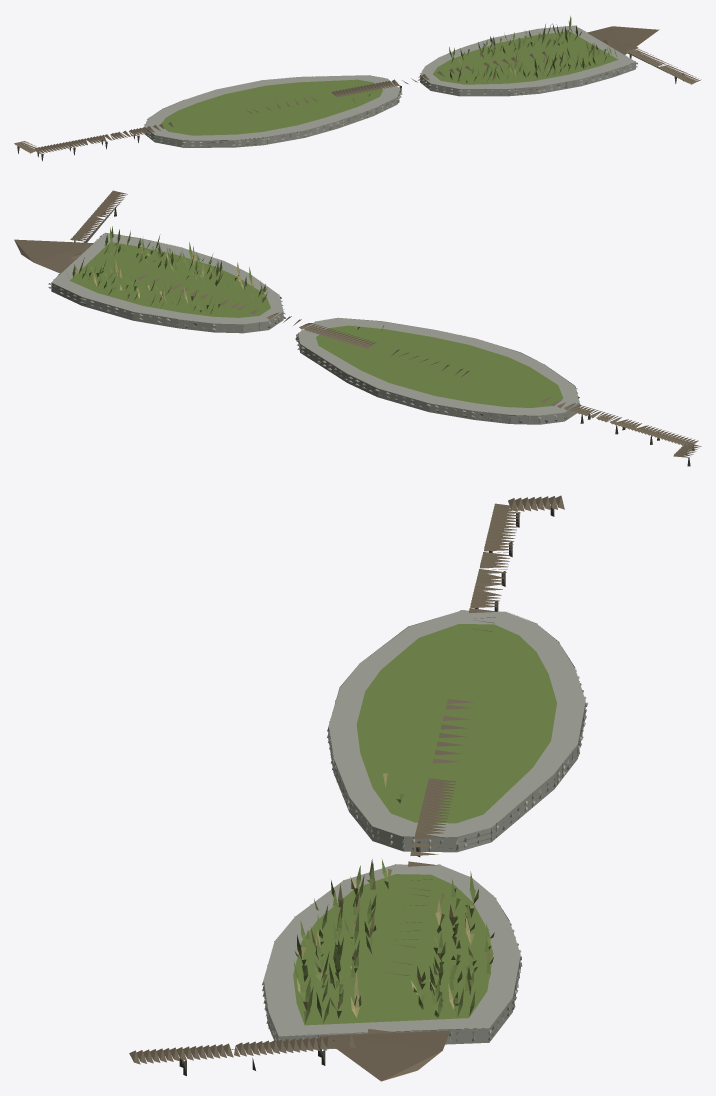
The model's file is dorus-theus-brug.lod1.glb.
The picture shows the model from 3 angles, top to bottom: view 1: azimuth 30°, elevation 25°; view 2: azimuth 150°, elevation 25°; view 3: azimuth 270°, elevation 25°; orthographic projection. The views are drawn at different scales.
Visible parts, largest first — view 1: dorus-theus-brug; view 2: dorus-theus-brug; view 3: dorus-theus-brug.
Boxes of the visible parts, <box> form: dorus-theus-brug: <box>14,16,701,161</box>; dorus-theus-brug: <box>14,190,701,466</box>; dorus-theus-brug: <box>129,495,588,1081</box>.
Size of the model in its own units: 51.36 by 1.96 by 17.07.
